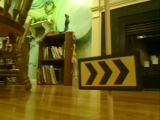right: (78, 55, 140, 89)
